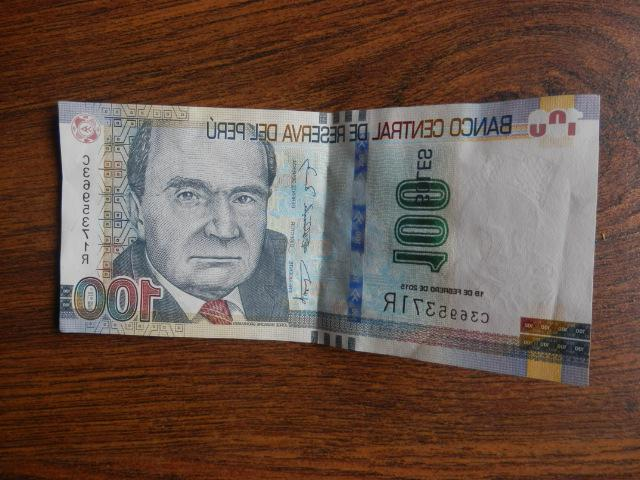B100: (58, 97, 597, 388)
